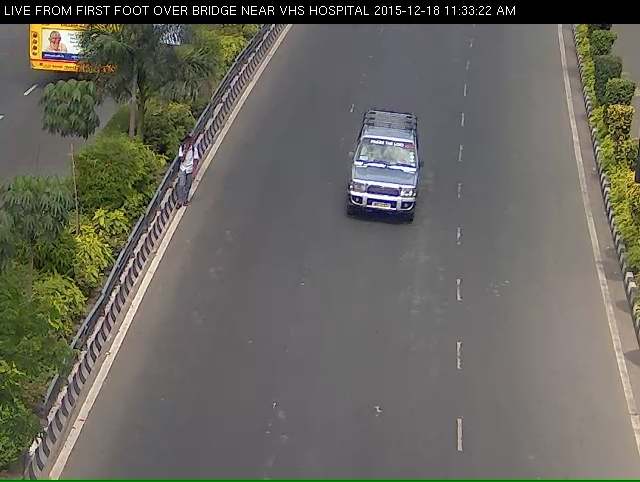Car: (340, 120, 441, 267)
Person: (174, 134, 197, 215)
